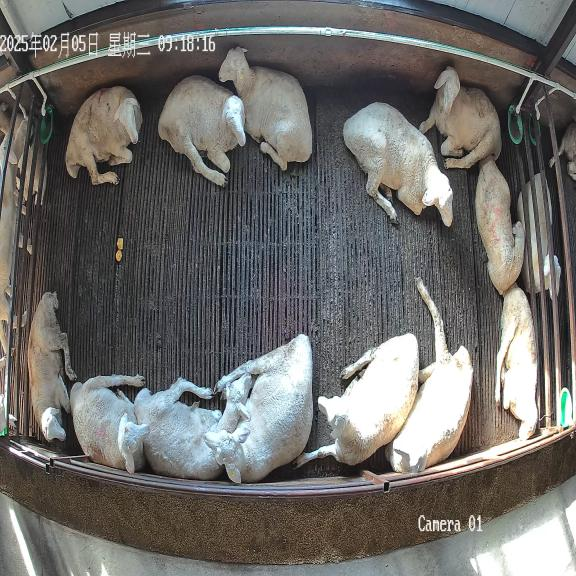lying: (385, 278, 473, 473), (297, 333, 419, 466), (205, 334, 313, 483), (343, 102, 453, 226), (134, 372, 253, 480), (218, 47, 312, 170), (158, 76, 245, 186), (419, 66, 501, 168), (70, 375, 150, 474), (65, 86, 142, 185), (28, 292, 76, 441), (475, 161, 525, 294), (495, 285, 538, 439)
